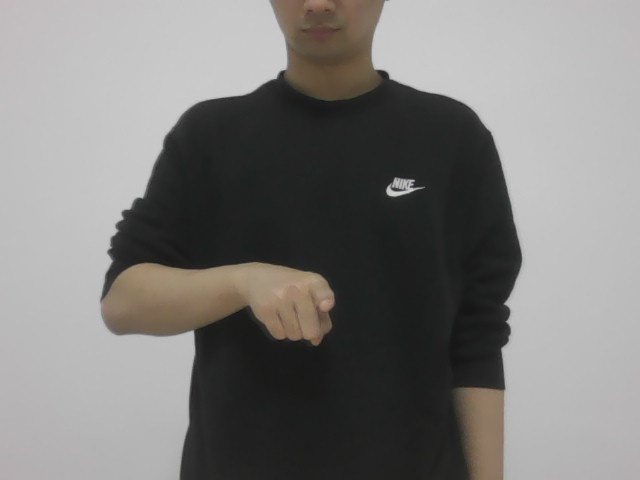you/your/this: (240, 246, 345, 356)
